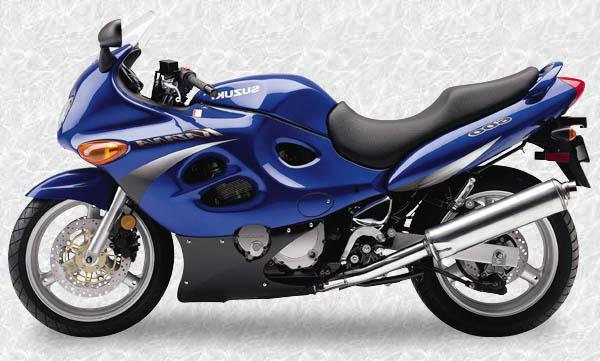motorcycle: (3, 1, 595, 352)
